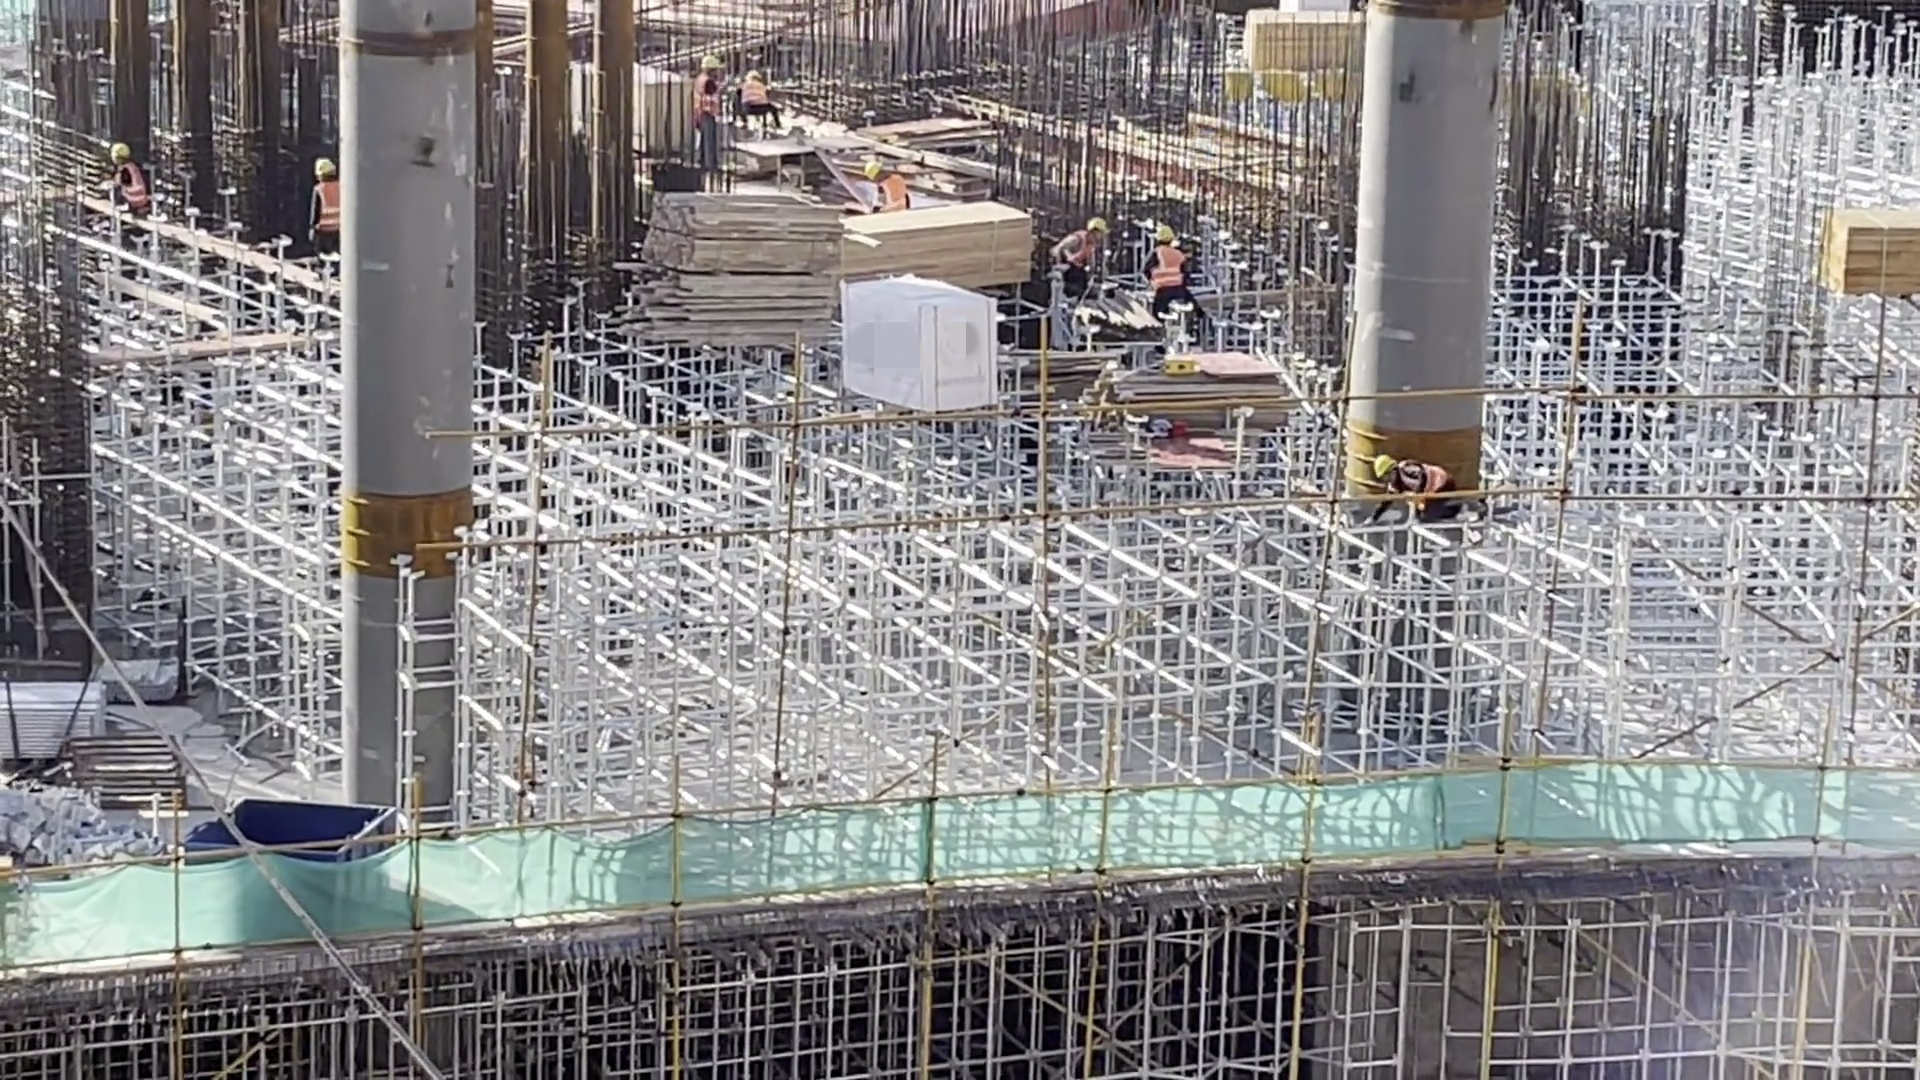helmet: (1375, 451, 1412, 481), (314, 156, 337, 180), (862, 161, 885, 184), (1088, 216, 1109, 238), (109, 141, 132, 161), (1156, 225, 1177, 242), (699, 54, 718, 71), (741, 69, 763, 82)
person: (1144, 224, 1212, 329), (1050, 209, 1114, 309), (1371, 452, 1459, 523), (688, 48, 725, 171), (306, 155, 338, 251), (726, 60, 779, 115), (865, 164, 920, 212), (111, 141, 145, 218)
vest: (1403, 469, 1457, 520), (1145, 245, 1186, 291), (690, 74, 722, 129), (1060, 229, 1096, 274), (313, 183, 341, 233), (878, 173, 909, 211), (118, 168, 144, 209), (738, 82, 772, 110)
